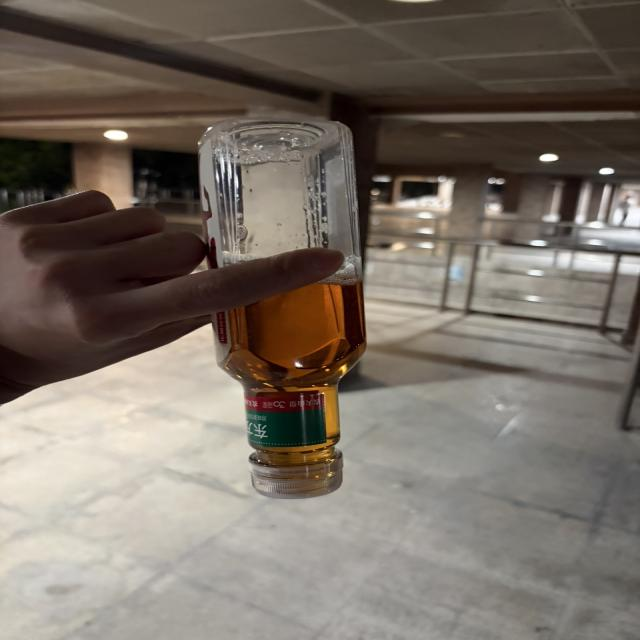medium: (199, 118, 365, 498)
